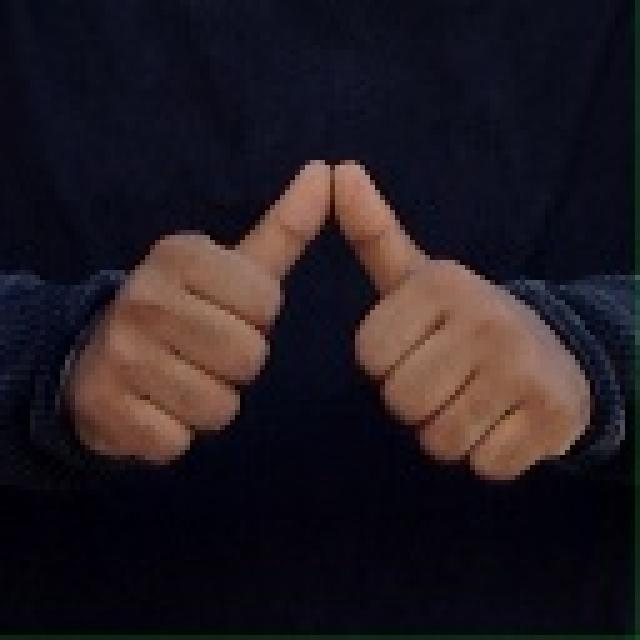Alphabet-A: (59, 155, 594, 489)
